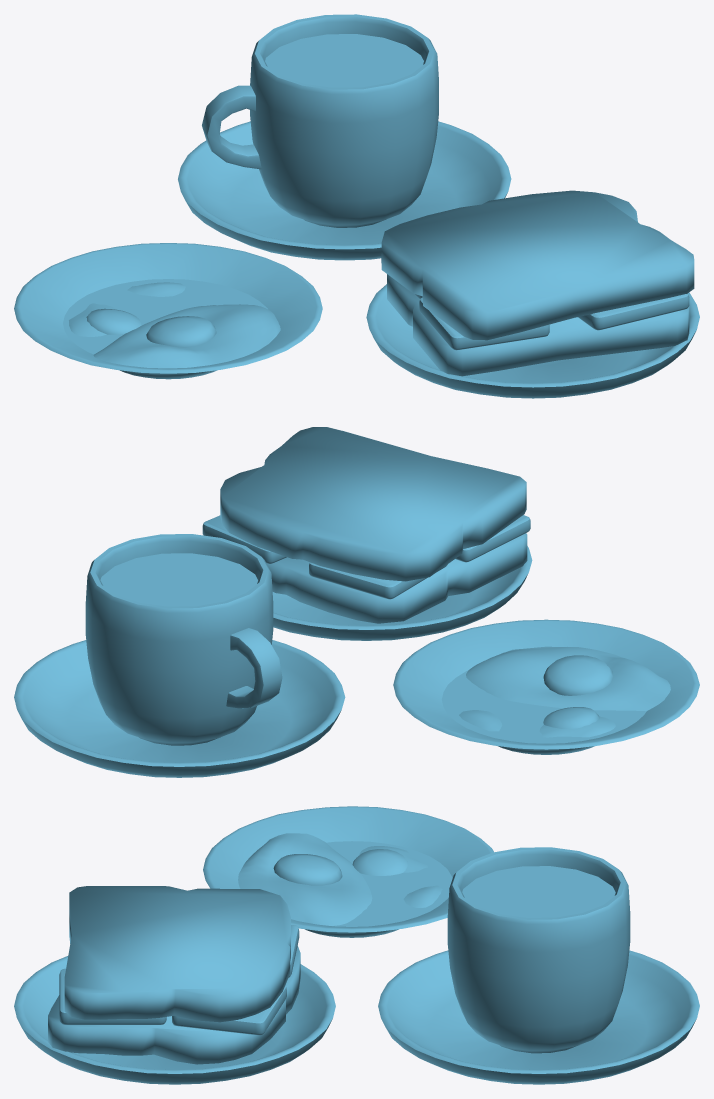
File: F002_KayaToastSet.fbx
3 views of the same model, one above another, from view 1: azimuth 30°, elevation 25°; view 2: azimuth 150°, elevation 25°; view 3: azimuth 270°, elevation 25° (orthographic). The views are drawn at different scales.
Visible parts, largest first — view 1: KayaToast, Kopi, SoftBoiledEggs; view 2: Kopi, KayaToast, SoftBoiledEggs; view 3: Kopi, KayaToast, SoftBoiledEggs.
Boxes of the visible parts, <box> form: KayaToast: <box>366,190,699,398</box>; Kopi: <box>178,14,511,260</box>; SoftBoiledEggs: <box>14,243,322,379</box>; Kopi: <box>14,534,345,777</box>; KayaToast: <box>202,427,532,640</box>; SoftBoiledEggs: <box>393,619,699,754</box>; Kopi: <box>378,847,699,1084</box>; KayaToast: <box>14,886,335,1084</box>; SoftBoiledEggs: <box>203,806,493,937</box>.
Bounding box in the file's own units: 0.4896 × 0.1371 × 0.5475.
